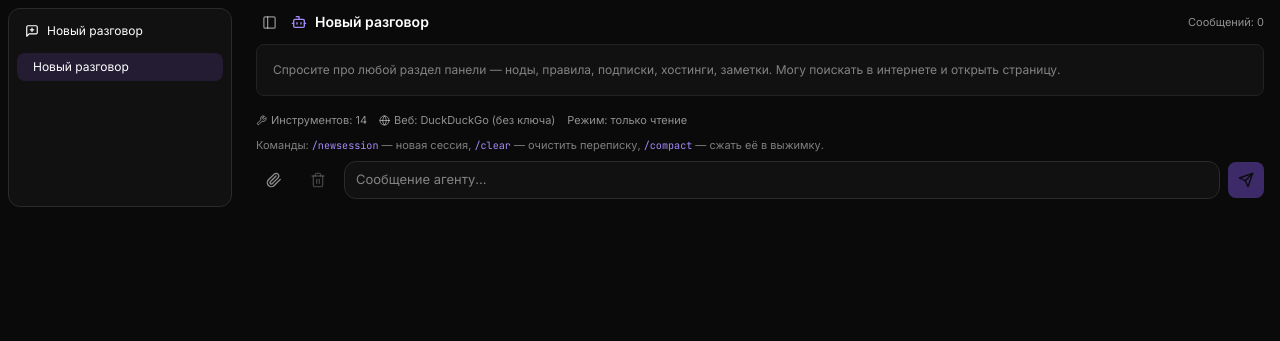
AiChat: markdown и безопасный HTML › ```блок``` рендерится в <pre><code> с моноширинным шрифтом
The image size is (1280, 341).
Type "вопрос" into the field with placeholder "Сообщение агенту..." at [782, 180], box [344,161,1220,198]
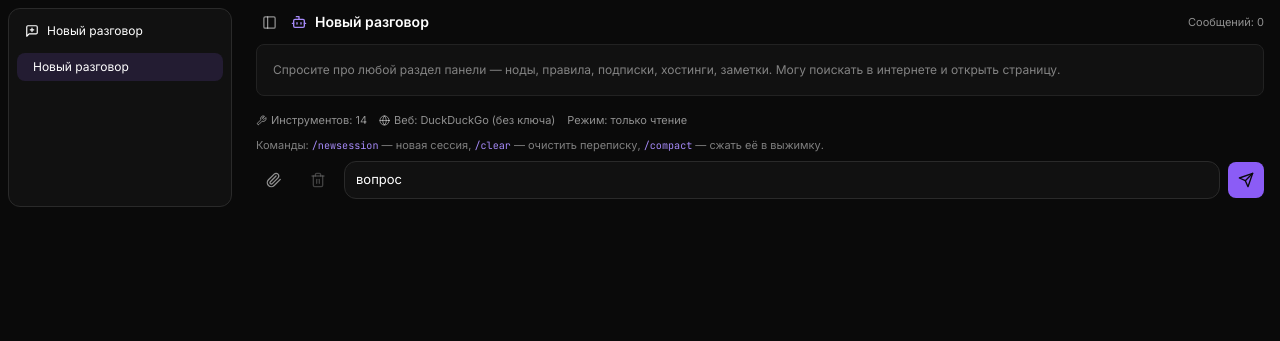
Press Enter in the field with placeholder "Сообщение агенту...", box [344,161,1220,198]
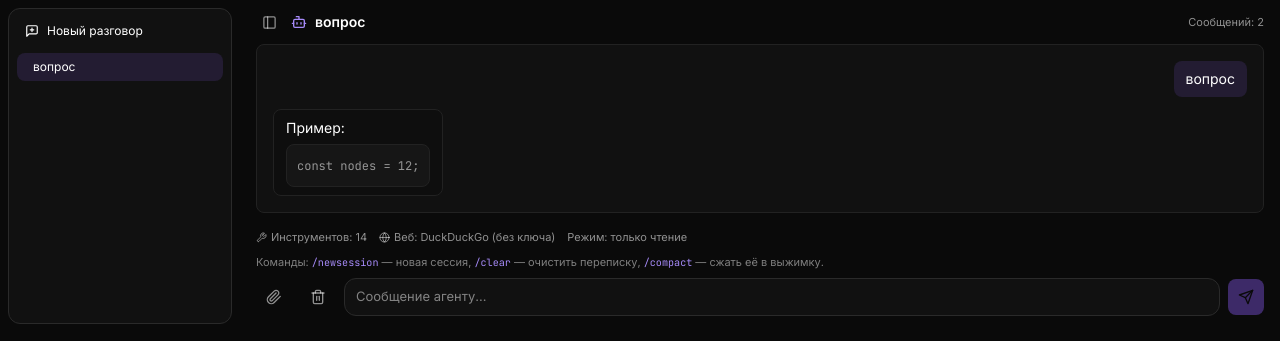
Now the button titled "Очистить" is enabled, box [300,279,336,315]
Now the element showing "const nodes = 12;" is shown, box [286,144,430,187]
Now the text "const nodes = 12;" is shown, box [297,158,419,174]
